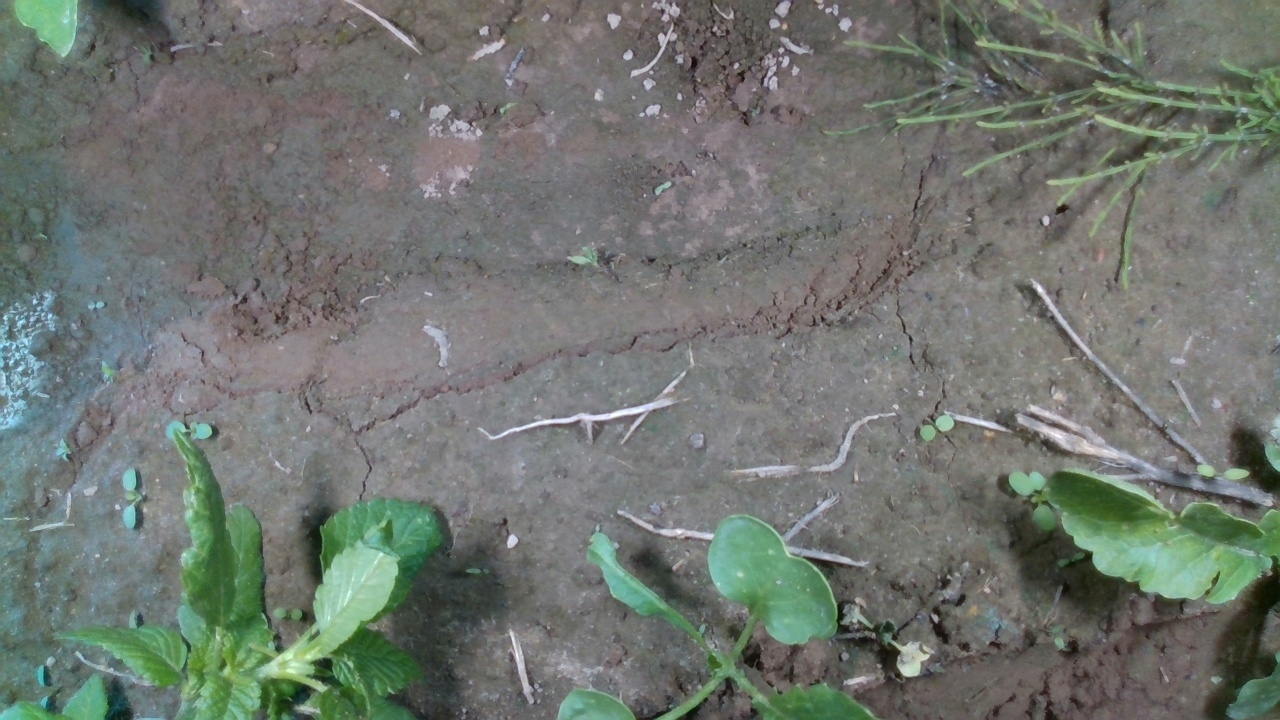weed: (120, 464, 138, 530), (918, 413, 957, 442), (1194, 463, 1251, 481), (54, 437, 74, 464), (272, 606, 304, 622), (87, 299, 108, 311)
